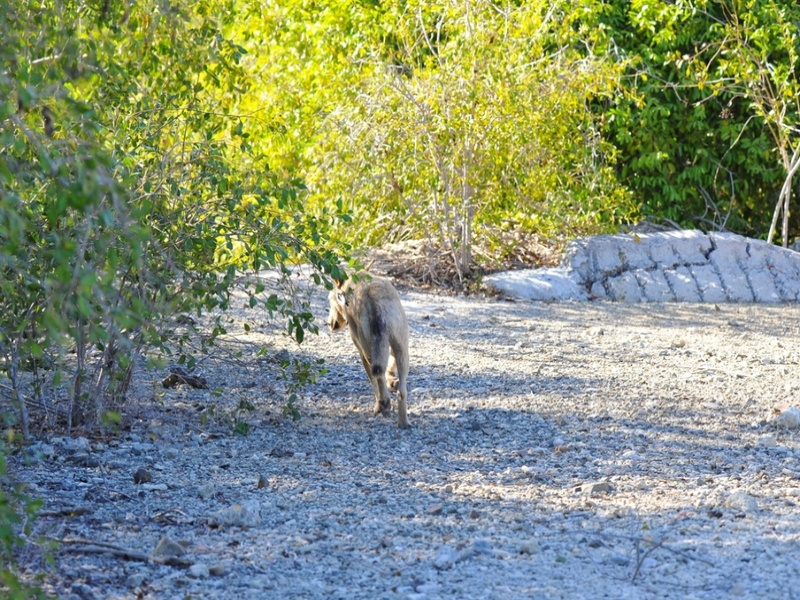dog: (321, 271, 422, 430)
